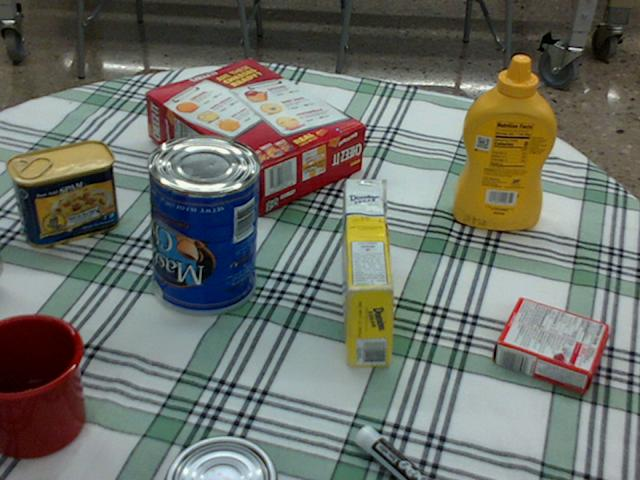cracker_box: (145, 59, 363, 211)
gelatin_box: (492, 298, 607, 394)
large_marker: (354, 425, 430, 479)
master_chef_can: (144, 134, 257, 315)
mug: (0, 310, 82, 455)
mustard_bottle: (451, 55, 555, 229)
potted_meat_can: (8, 140, 118, 247)
sugar_box: (342, 179, 392, 365)
tuna_fish_can: (161, 437, 274, 479)
